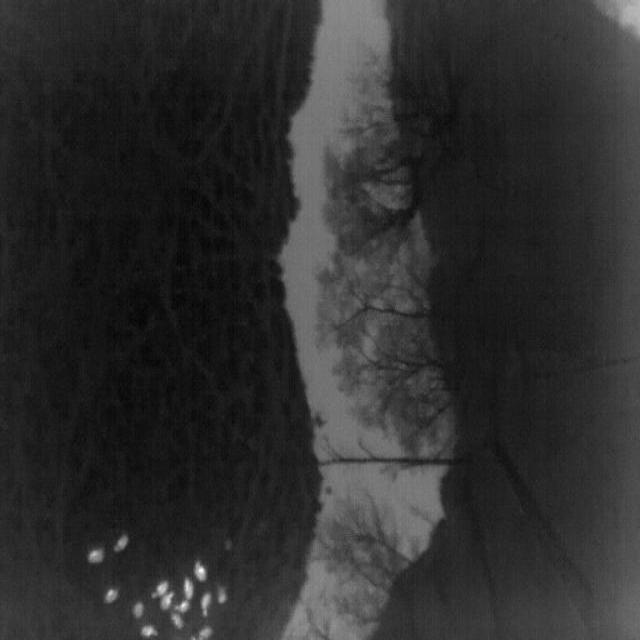deer: (193, 560, 207, 582), (152, 580, 168, 598), (160, 592, 174, 612), (103, 588, 120, 604), (88, 548, 106, 563), (201, 592, 212, 616), (183, 577, 194, 599), (114, 535, 129, 551), (197, 625, 213, 640), (140, 625, 158, 638), (170, 613, 184, 629), (216, 586, 228, 604), (174, 600, 191, 612), (132, 602, 144, 618), (188, 635, 197, 640)
